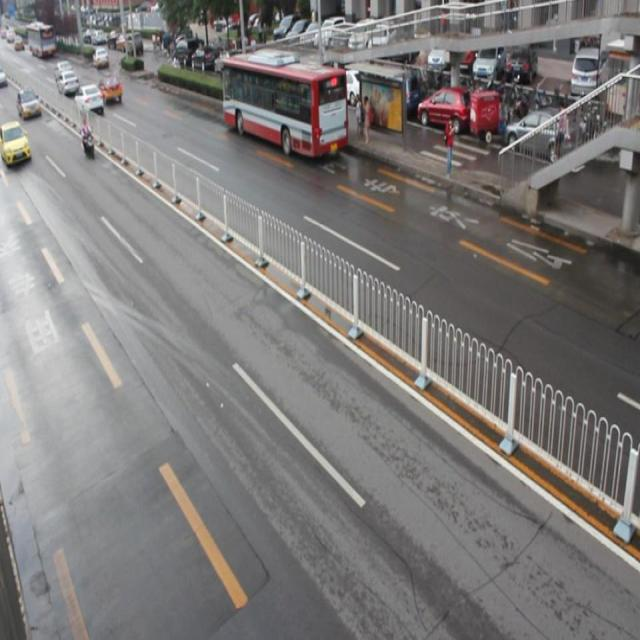van: (222, 54, 345, 158)
